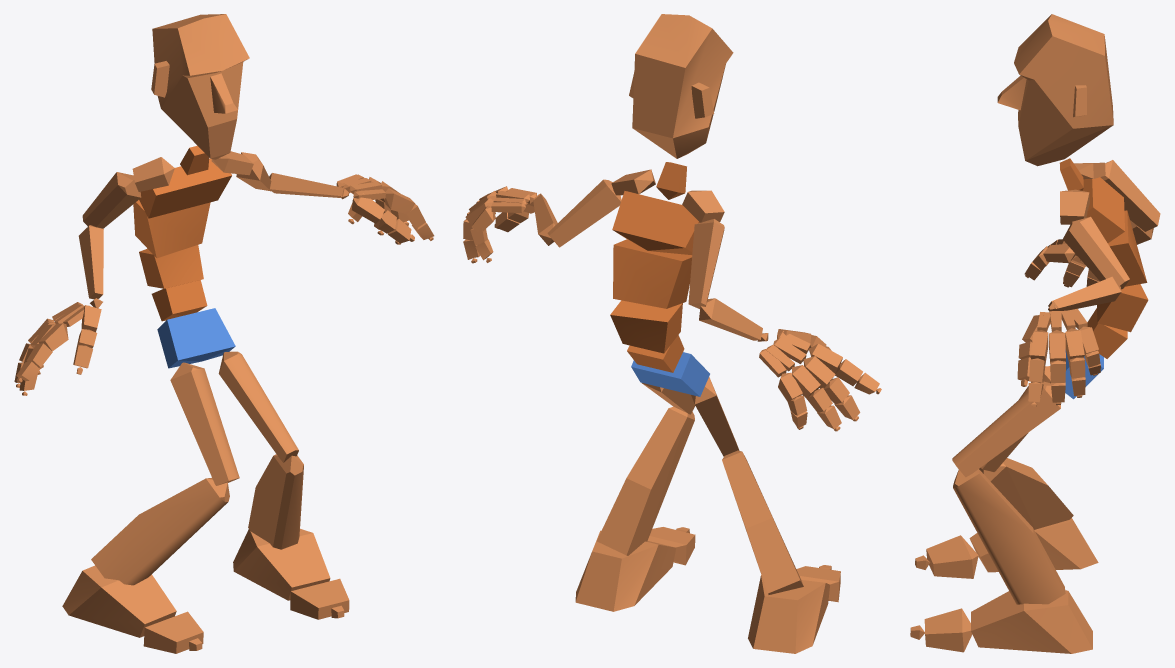
Rendered from prueba277.obj.
The picture shows the model from 3 angles, left to right: view 1: azimuth 30°, elevation 25°; view 2: azimuth 150°, elevation 25°; view 3: azimuth 270°, elevation 25°; orthographic projection. The views are drawn at different scales.
Visible parts, largest first — view 1: BOPED_Head, BOPED_R_leg, BOPED_R_foot, BOPED_R_foot01, BOPED_L_leg, BOPED_R_legup, Bone01, BOPED_L_legup, Bone04, Bone05, Bone03, BOPED_R_arm_upper (+9 smaller); view 2: BOPED_Head, BOPED_L_leg, BOPED_R_foot01, BOPED_R_foot, BOPED_R_leg, Bone04, Bone05, Bone03, BOPED_R_arm_upper, BOPED_L_arm_upper, Bone01, BOPED_R_legup (+9 smaller); view 3: BOPED_Head, BOPED_L_leg, BOPED_R_foot01, BOPED_L_legup, BOPED_R_leg, BOPED_R_foot, BOPED_L_arm_upper, Bone05, BOPED_R_foot_toe01, BOPED_R_arm_upper, BOPED_R_foot_toe04, Bone03 (+12 smaller).
Part boxes in pixels (x1,y1,x2,y2): BOPED_Head: (151,14,249,159); BOPED_R_leg: (91,477,229,585); BOPED_R_foot: (62,565,176,637); BOPED_R_foot01: (233,528,330,600); BOPED_L_leg: (248,454,303,549); BOPED_R_legup: (170,362,239,485); Bone01: (157,308,235,368); BOPED_L_legup: (218,351,298,462); Bone04: (133,200,210,258); Bone05: (139,158,231,218); Bone03: (139,245,203,288); BOPED_R_arm_upper: (82,172,141,228); BOPED_Head: (629,14,733,158); BOPED_L_leg: (597,406,694,555); BOPED_R_foot01: (575,530,676,611); BOPED_R_foot: (748,575,829,653); BOPED_R_leg: (722,450,803,594); Bone04: (613,239,692,308); Bone05: (612,191,699,254); Bone03: (610,300,682,353); BOPED_R_arm_upper: (688,219,724,308); BOPED_L_arm_upper: (547,179,621,247); Bone01: (631,352,709,396); BOPED_R_legup: (691,377,739,456); BOPED_Head: (997,14,1113,166); BOPED_L_leg: (953,469,1065,604); BOPED_R_foot01: (971,590,1092,653); BOPED_L_legup: (952,381,1060,477); BOPED_R_leg: (979,458,1073,529); BOPED_R_foot: (969,518,1098,572); BOPED_L_arm_upper: (1062,216,1129,289); Bone05: (1082,177,1124,242); BOPED_R_foot_toe01: (926,535,978,578); BOPED_R_arm_upper: (1100,160,1160,231); BOPED_R_foot_toe04: (924,608,972,652); Bone03: (1097,284,1148,332).
Size of the model in its own units: 130 by 175 by 67.61.
